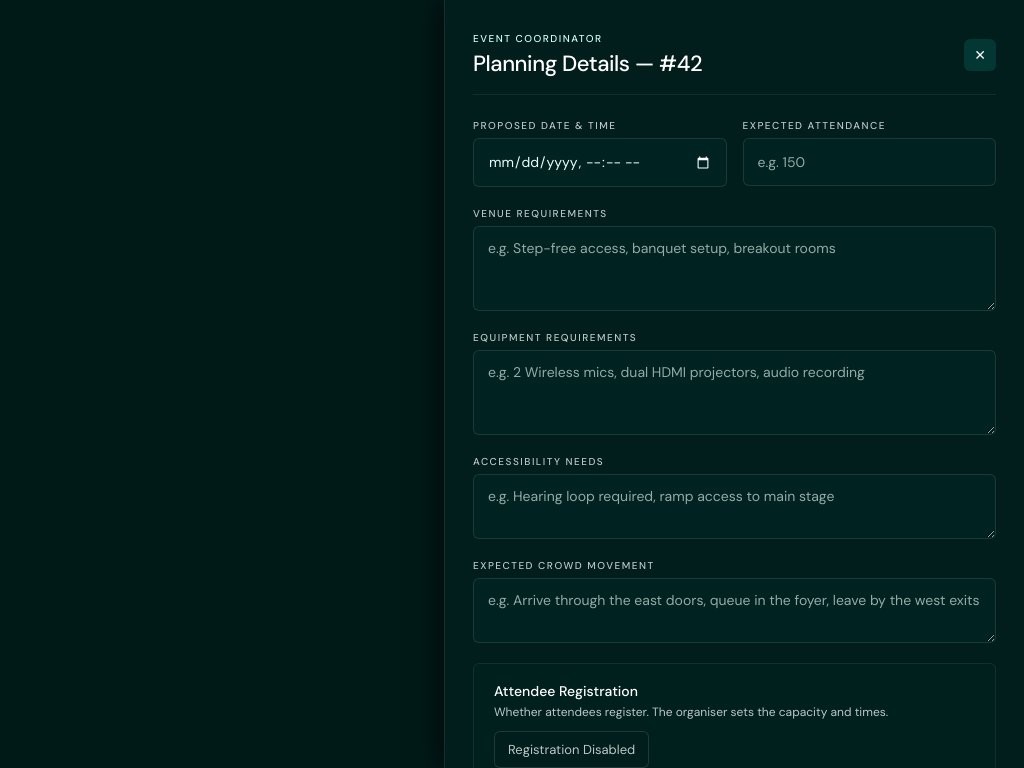
Test case: EventPlanningDrawer Component › [FAILURE] [SG2-39:planning-validation] shows client-side validation errors when invalid inputs are saved
Type "-20" into the number field labelled "Expected Attendance" at (869, 162), box [742,138,996,186]
(page scrolled)
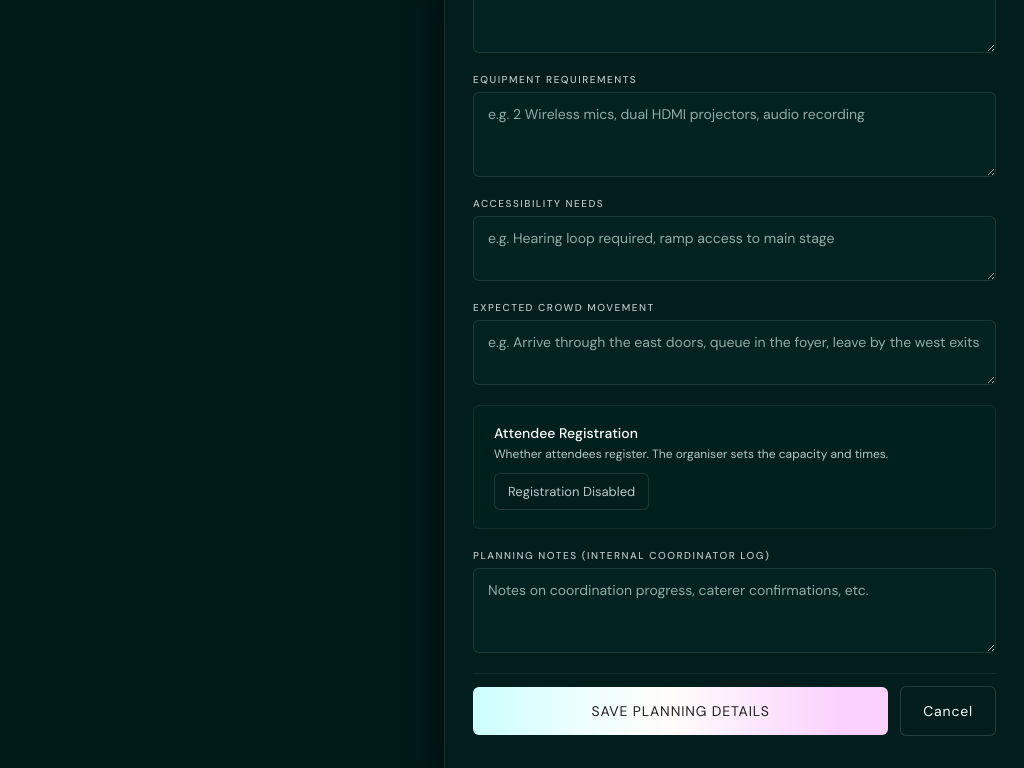
Click the button "Save Planning Details" at (681, 711), box [473,687,888,735]
(page scrolled)
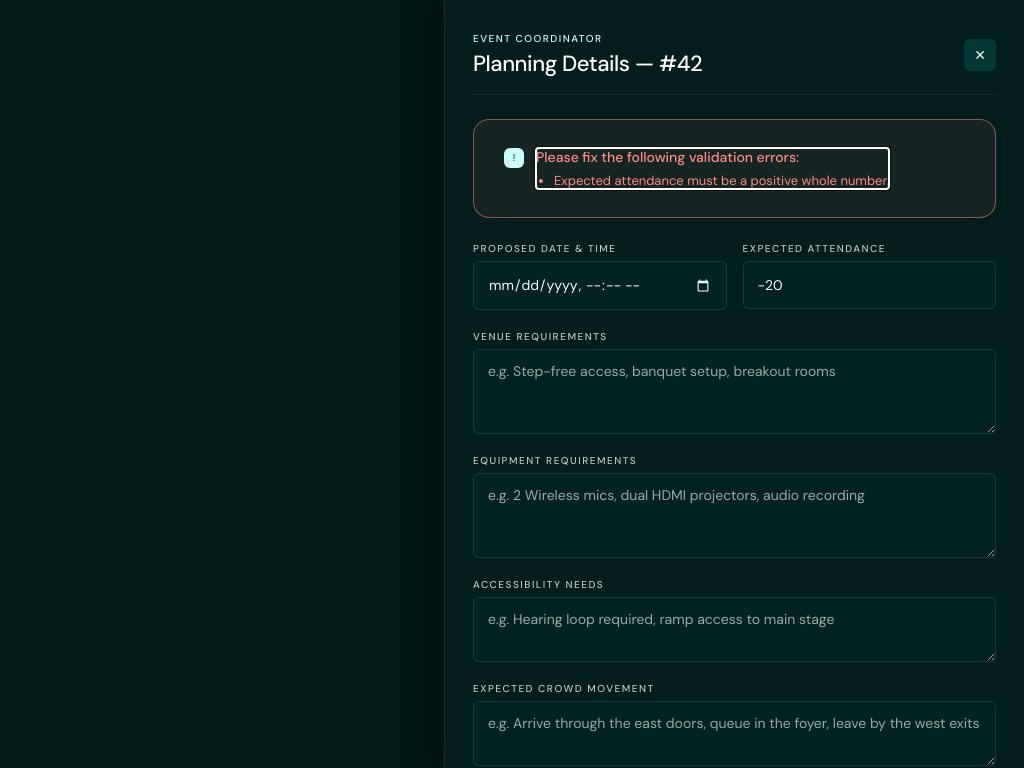
expect the element with test id "client-validation-errors" is shown: met, box [473,119,996,218]
expect the list item "Expected attendance must be a positive whole number." is shown: met, box [554,172,889,189]
